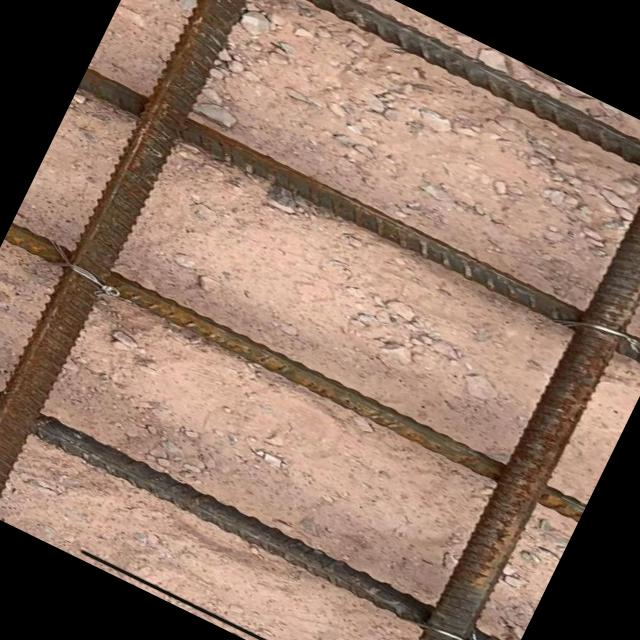ribbed bar: (2, 220, 586, 520), (76, 66, 640, 369), (0, 362, 517, 640), (0, 0, 274, 516), (381, 130, 640, 640), (153, 0, 640, 211)
